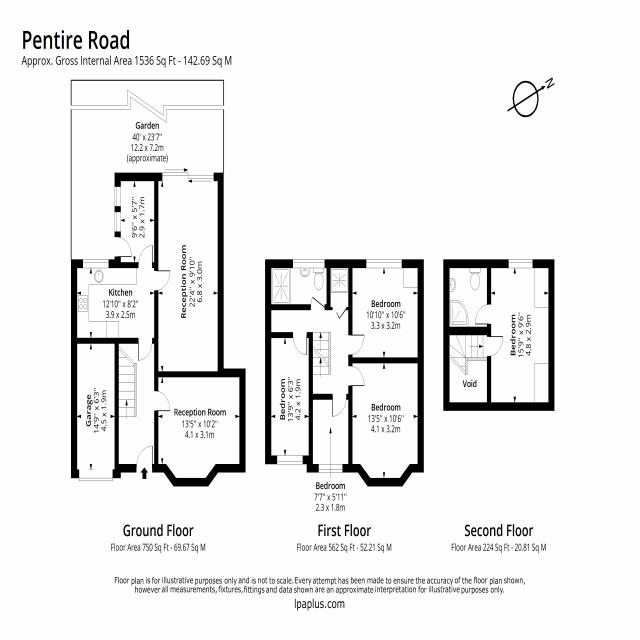DOOR: (135, 445, 153, 473), (348, 364, 365, 387), (348, 333, 365, 356), (292, 332, 308, 356), (486, 336, 504, 357), (114, 236, 132, 257), (474, 303, 491, 325), (154, 390, 171, 412), (154, 270, 171, 292), (332, 393, 347, 417), (138, 338, 153, 361), (138, 245, 153, 268), (309, 295, 326, 310)
ROOM: (154, 172, 224, 377), (474, 259, 555, 411), (71, 245, 171, 361), (154, 369, 246, 487), (348, 357, 424, 487), (348, 259, 424, 364), (265, 332, 313, 473), (308, 393, 353, 473)
SLIDING DOOR: (161, 171, 215, 183)
WINDOW: (366, 259, 403, 269), (292, 259, 325, 269), (276, 455, 304, 465), (82, 259, 109, 269), (508, 259, 533, 269), (318, 463, 343, 473), (114, 212, 121, 233), (114, 186, 121, 207)
